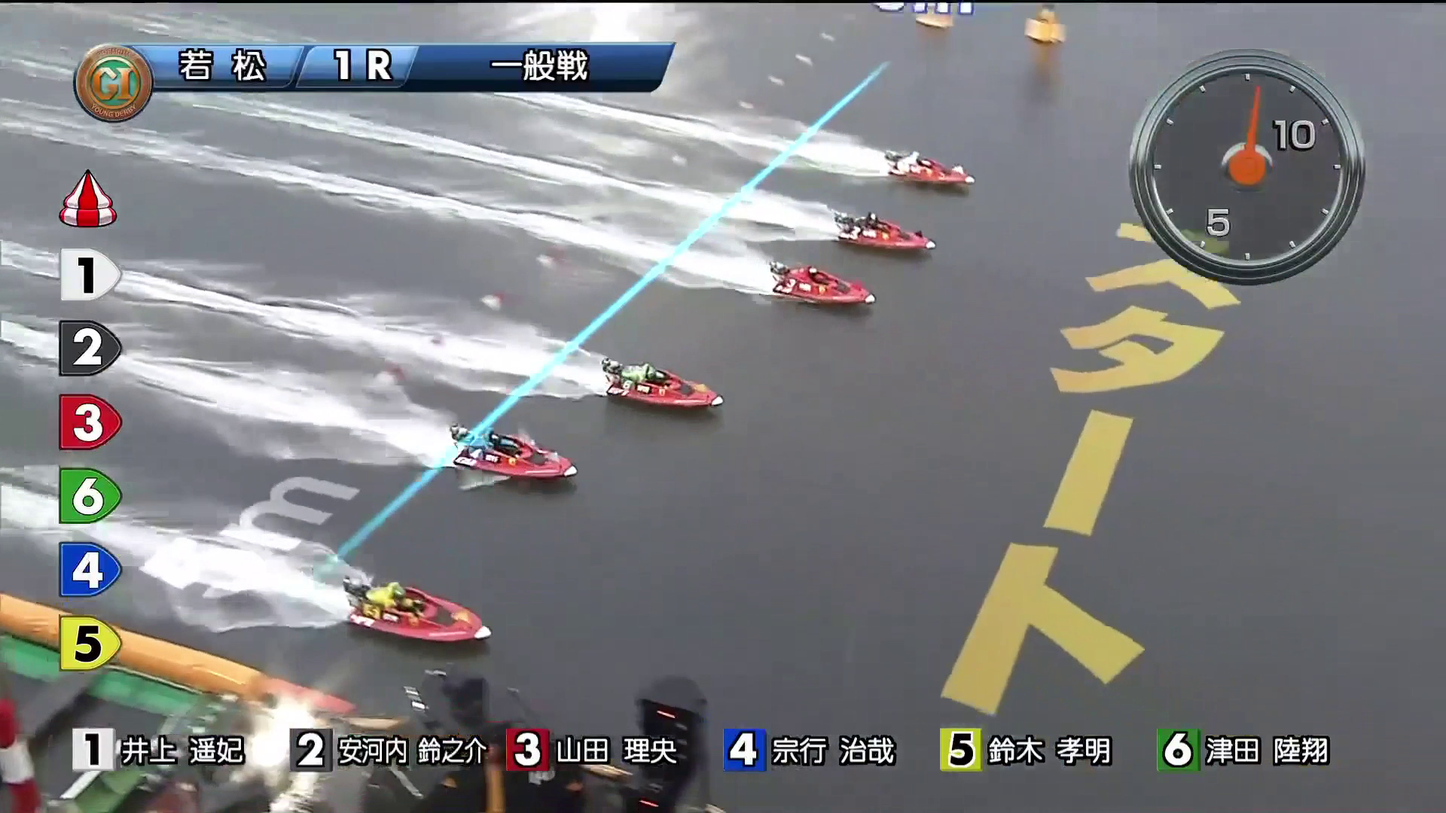１号艇: (845, 168, 923, 215)
２号艇: (856, 229, 918, 267)
３号艇: (796, 275, 851, 316)
４号艇: (638, 370, 702, 413)
５号艇: (501, 455, 570, 493)
６号艇: (431, 613, 496, 660)
